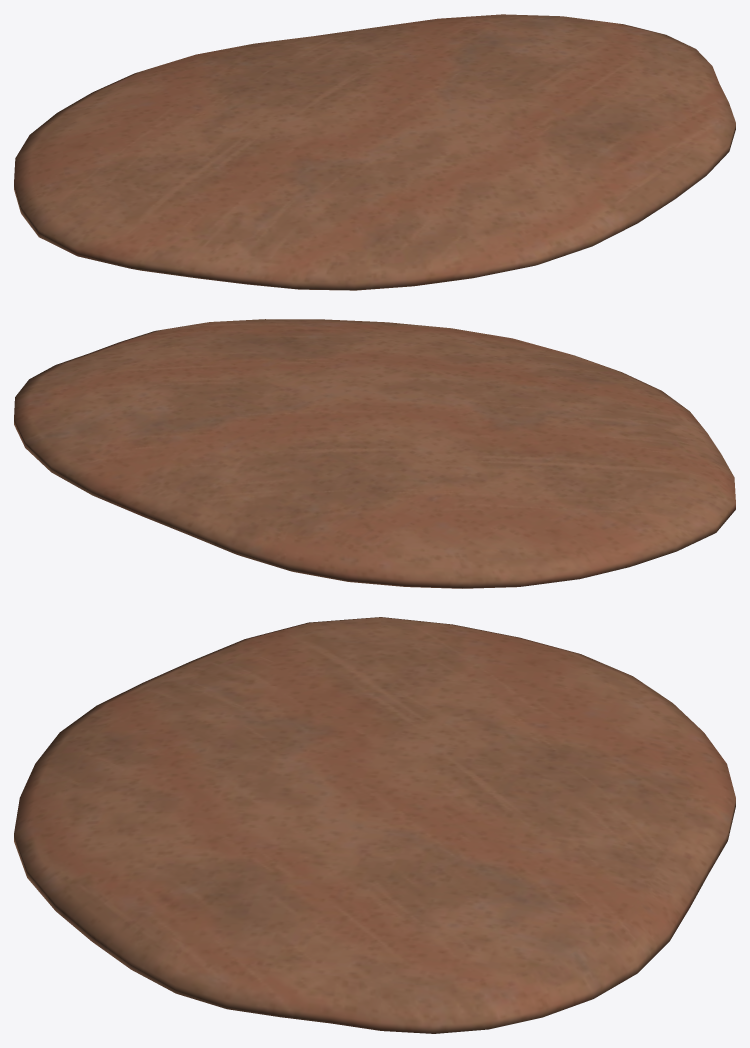
The model's file is red_sandstone_07.glb.
The picture shows the model from 3 angles, top to bottom: view 1: azimuth 30°, elevation 25°; view 2: azimuth 150°, elevation 25°; view 3: azimuth 270°, elevation 25°; orthographic projection. The views are drawn at different scales.
Visible parts, largest first — view 1: red_sandstone_07; view 2: red_sandstone_07; view 3: red_sandstone_07.
Part boxes in pixels (x1=…): red_sandstone_07: x1=14, y1=14, x2=735, y2=290; red_sandstone_07: x1=14, y1=319, x2=735, y2=588; red_sandstone_07: x1=14, y1=617, x2=735, y2=1033.
Bounding box in the file's own units: 0.0864 × 0.00815 × 0.0646.
1 material, 1 textured.
